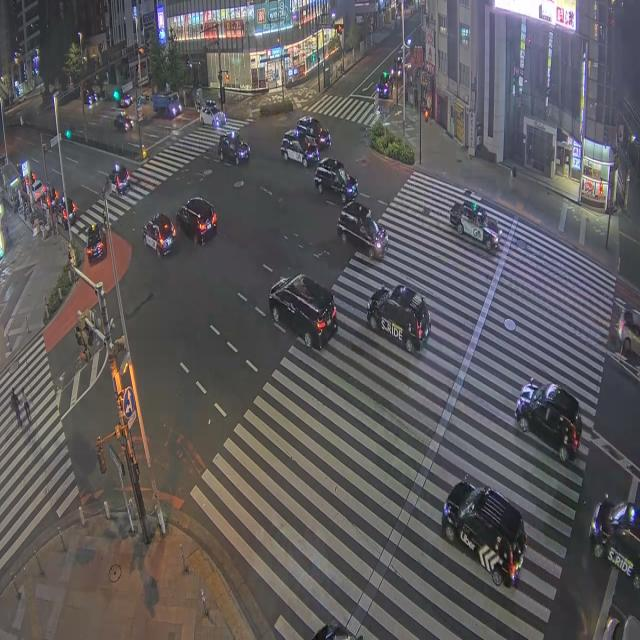car: (442, 480, 527, 586), (515, 379, 581, 462), (269, 275, 337, 349), (590, 498, 639, 589), (367, 285, 430, 352), (337, 201, 387, 258), (450, 201, 501, 251), (314, 159, 357, 204), (176, 198, 216, 244), (281, 131, 319, 167), (143, 214, 175, 255), (294, 117, 331, 150), (218, 132, 250, 165), (617, 310, 639, 354), (602, 616, 639, 639), (313, 623, 363, 639), (86, 224, 106, 262), (55, 195, 77, 228), (110, 165, 130, 194), (54, 201, 75, 228), (200, 106, 226, 127), (60, 195, 78, 217), (377, 72, 392, 98), (114, 112, 133, 131), (391, 51, 403, 78), (32, 179, 46, 201), (47, 183, 59, 207), (83, 89, 97, 106), (118, 94, 132, 108), (203, 99, 216, 108)
